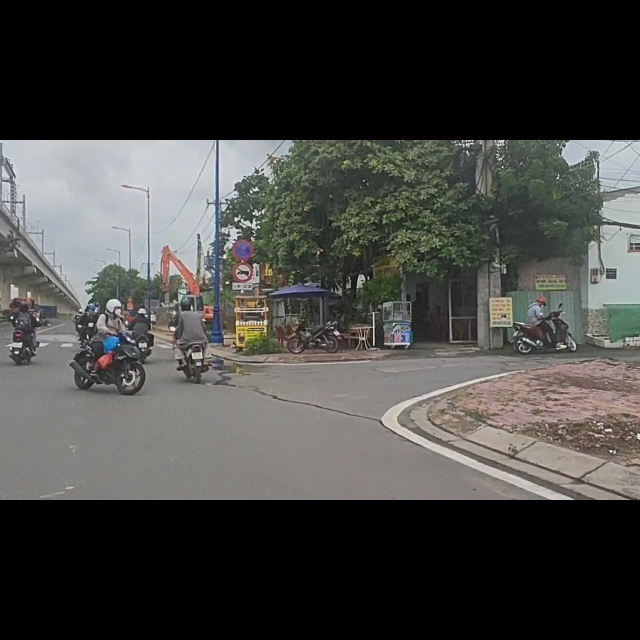bien_cam: (233, 178, 254, 215), (232, 218, 254, 252)
